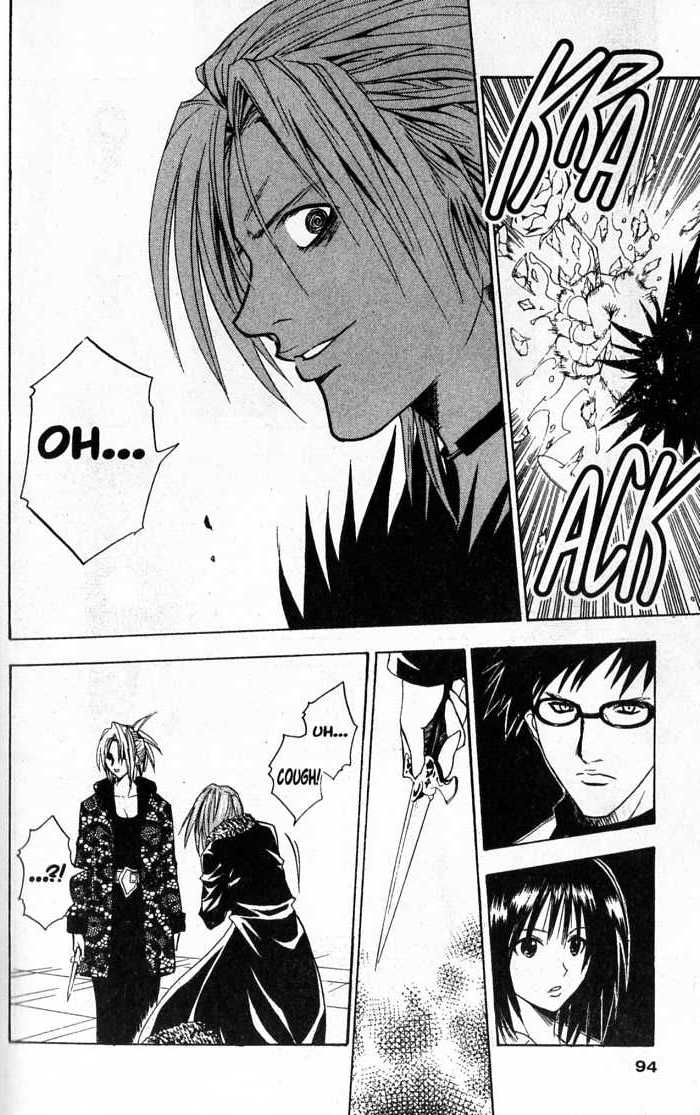Baloon: (20, 338, 174, 562), (265, 679, 360, 830), (20, 818, 84, 930)
Vignetta: (11, 1, 520, 638), (6, 647, 367, 1045), (481, 33, 699, 622), (348, 654, 491, 1115), (469, 643, 655, 855), (488, 845, 654, 1055)
